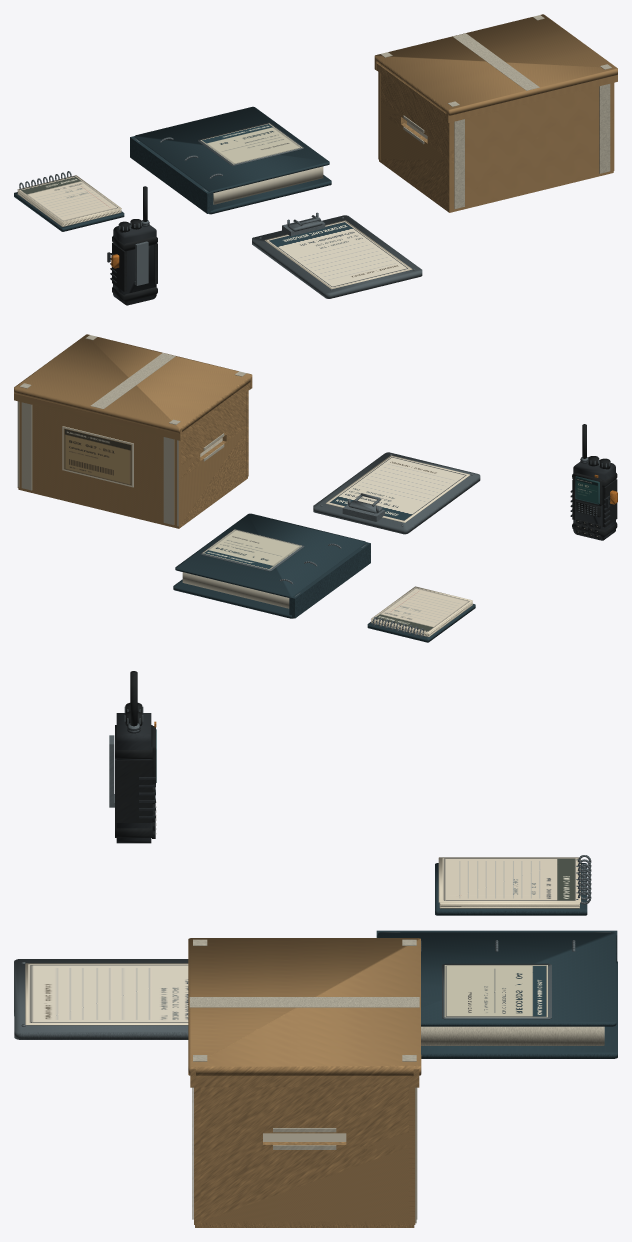
The picture shows the model from 3 angles, top to bottom: view 1: azimuth 30°, elevation 25°; view 2: azimuth 150°, elevation 25°; view 3: azimuth 270°, elevation 25°; orthographic projection. The views are drawn at different scales.
Visible parts, largest first — view 1: VIS_RECORDS_BOX_VIS_BoxWalls__cardboard, VIS_RECORDS_BOX_VIS_LidTop__cardboard, VIS_BINDER_VIS_BinderCover__binding_cloth, VIS_CLIPBOARD_VIS_DispatchPrint__dispatch_form, VIS_CLIPBOARD_VIS_Board__slate_board, VIS_NOTEPAD_VIS_NotepadWrittenPage__notepad_page, VIS_BINDER_VIS_BinderPrintedLabel__binder_label, VIS_BINDER_VIS_BinderSpine__binding_cloth, VIS_RECORDS_BOX_VIS_CornerReinforcement__paper_edge, VIS_RECORDS_BOX_VIS_LidFlanges__cardboard, VIS_RADIO_VIS_RadioCase__dark_polymer, VIS_BINDER_VIS_DocumentBlock__paper_edge (+12 smaller); view 2: VIS_RECORDS_BOX_VIS_BoxWalls__cardboard, VIS_RECORDS_BOX_VIS_LidTop__cardboard, VIS_BINDER_VIS_BinderCover__binding_cloth, VIS_CLIPBOARD_VIS_DispatchPrint__dispatch_form, VIS_RECORDS_BOX_VIS_BoxRecordsPrint__box_label, VIS_CLIPBOARD_VIS_Board__slate_board, VIS_NOTEPAD_VIS_NotepadWrittenPage__notepad_page, VIS_BINDER_VIS_BinderPrintedLabel__binder_label, VIS_RECORDS_BOX_VIS_CornerReinforcement__paper_edge, VIS_BINDER_VIS_BinderSpine__binding_cloth, VIS_RECORDS_BOX_VIS_LidFlanges__cardboard, VIS_BINDER_VIS_DocumentBlock__paper_edge (+12 smaller); view 3: VIS_RECORDS_BOX_VIS_LidTop__cardboard, VIS_RECORDS_BOX_VIS_BoxWalls__cardboard, VIS_BINDER_VIS_BinderCover__binding_cloth, VIS_CLIPBOARD_VIS_DispatchPrint__dispatch_form, VIS_NOTEPAD_VIS_NotepadWrittenPage__notepad_page, VIS_BINDER_VIS_BinderPrintedLabel__binder_label, VIS_CLIPBOARD_VIS_Board__slate_board, VIS_BINDER_VIS_DocumentBlock__paper_edge, VIS_BINDER_VIS_BinderBack__binding_cloth, VIS_RECORDS_BOX_VIS_LidFlanges__cardboard, VIS_RECORDS_BOX_VIS_HandleSideBridges__cardboard, VIS_RECORDS_BOX_VIS_PackingTape__paper_edge (+11 smaller).
Boxes of the visible parts, x1,y1,x2,y2 form: VIS_RECORDS_BOX_VIS_BoxWalls__cardboard: (378, 72, 614, 211); VIS_RECORDS_BOX_VIS_LidTop__cardboard: (374, 14, 617, 115); VIS_BINDER_VIS_BinderCover__binding_cloth: (135, 106, 329, 192); VIS_CLIPBOARD_VIS_DispatchPrint__dispatch_form: (267, 221, 409, 287); VIS_CLIPBOARD_VIS_Board__slate_board: (252, 215, 422, 298); VIS_NOTEPAD_VIS_NotepadWrittenPage__notepad_page: (20, 176, 118, 221); VIS_BINDER_VIS_BinderPrintedLabel__binder_label: (200, 123, 302, 164); VIS_BINDER_VIS_BinderSpine__binding_cloth: (130, 136, 213, 213); VIS_RECORDS_BOX_VIS_CornerReinforcement__paper_edge: (454, 84, 610, 208); VIS_RECORDS_BOX_VIS_LidFlanges__cardboard: (374, 58, 617, 122); VIS_RADIO_VIS_RadioCase__dark_polymer: (113, 223, 156, 305); VIS_BINDER_VIS_DocumentBlock__paper_edge: (213, 166, 323, 204); VIS_RECORDS_BOX_VIS_BoxWalls__cardboard: (17, 391, 248, 526); VIS_RECORDS_BOX_VIS_LidTop__cardboard: (14, 334, 252, 433); VIS_BINDER_VIS_BinderCover__binding_cloth: (175, 513, 365, 597); VIS_CLIPBOARD_VIS_DispatchPrint__dispatch_form: (328, 456, 467, 521); VIS_RECORDS_BOX_VIS_BoxRecordsPrint__box_label: (63, 428, 131, 485); VIS_CLIPBOARD_VIS_Board__slate_board: (313, 452, 480, 534); VIS_NOTEPAD_VIS_NotepadWrittenPage__notepad_page: (373, 587, 470, 631); VIS_BINDER_VIS_BinderPrintedLabel__binder_label: (202, 529, 301, 569); VIS_RECORDS_BOX_VIS_CornerReinforcement__paper_edge: (21, 402, 174, 525); VIS_BINDER_VIS_BinderSpine__binding_cloth: (289, 542, 370, 618); VIS_RECORDS_BOX_VIS_LidFlanges__cardboard: (14, 377, 252, 440); VIS_BINDER_VIS_DocumentBlock__paper_edge: (182, 572, 289, 608); VIS_RECORDS_BOX_VIS_LidTop__cardboard: (188, 938, 421, 1075); VIS_RECORDS_BOX_VIS_BoxWalls__cardboard: (194, 1087, 415, 1224); VIS_BINDER_VIS_BinderCover__binding_cloth: (377, 932, 616, 1026); VIS_CLIPBOARD_VIS_DispatchPrint__dispatch_form: (28, 964, 188, 1023); VIS_NOTEPAD_VIS_NotepadWrittenPage__notepad_page: (442, 858, 576, 901); VIS_BINDER_VIS_BinderPrintedLabel__binder_label: (444, 965, 547, 1017); VIS_CLIPBOARD_VIS_Board__slate_board: (14, 959, 188, 1039); VIS_BINDER_VIS_DocumentBlock__paper_edge: (421, 1026, 604, 1045); VIS_BINDER_VIS_BinderBack__binding_cloth: (421, 961, 617, 1058); VIS_RECORDS_BOX_VIS_LidFlanges__cardboard: (190, 1069, 419, 1087); VIS_RECORDS_BOX_VIS_HandleSideBridges__cardboard: (200, 1130, 408, 1151); VIS_RECORDS_BOX_VIS_PackingTape__paper_edge: (189, 997, 419, 1007).
Bounding box in the file's own units: 1.32 × 0.287 × 0.8485.
15 materials, 15 textured.
